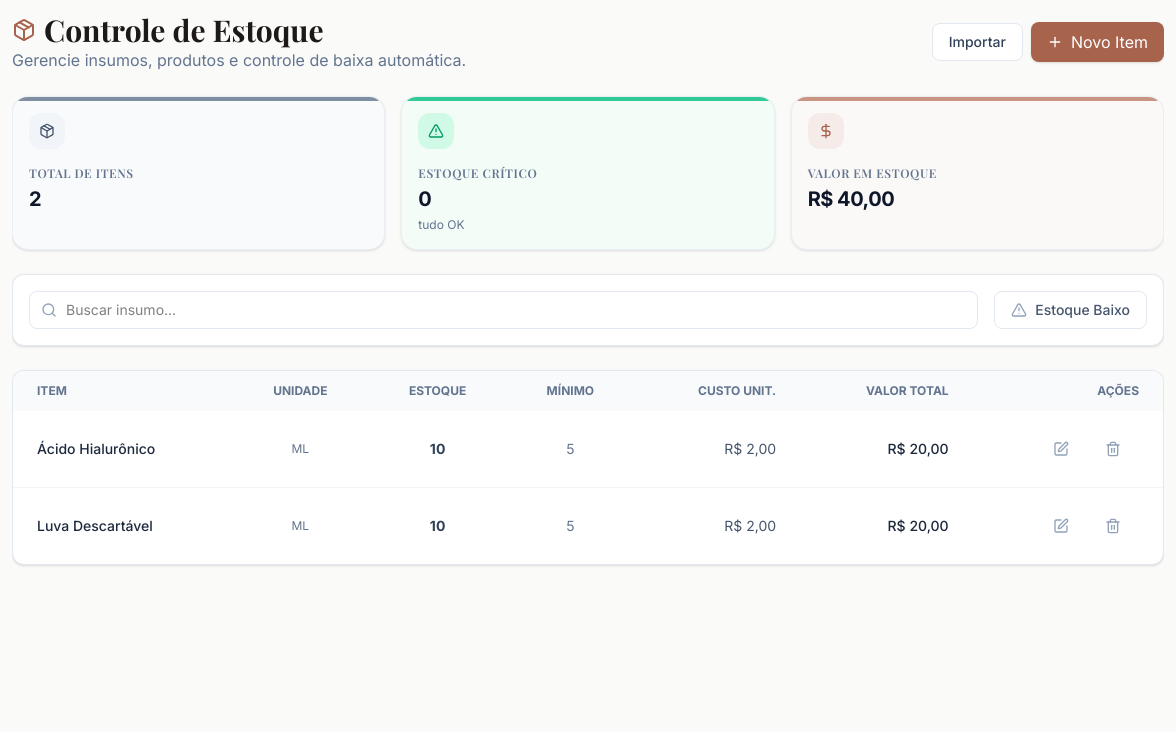
Test case: pages/Inventory › a busca por nome filtra a tabela
Type "luva" into the field with placeholder "Buscar insumo...".
click(504, 310); type("luva")  # box [29,291,978,329]
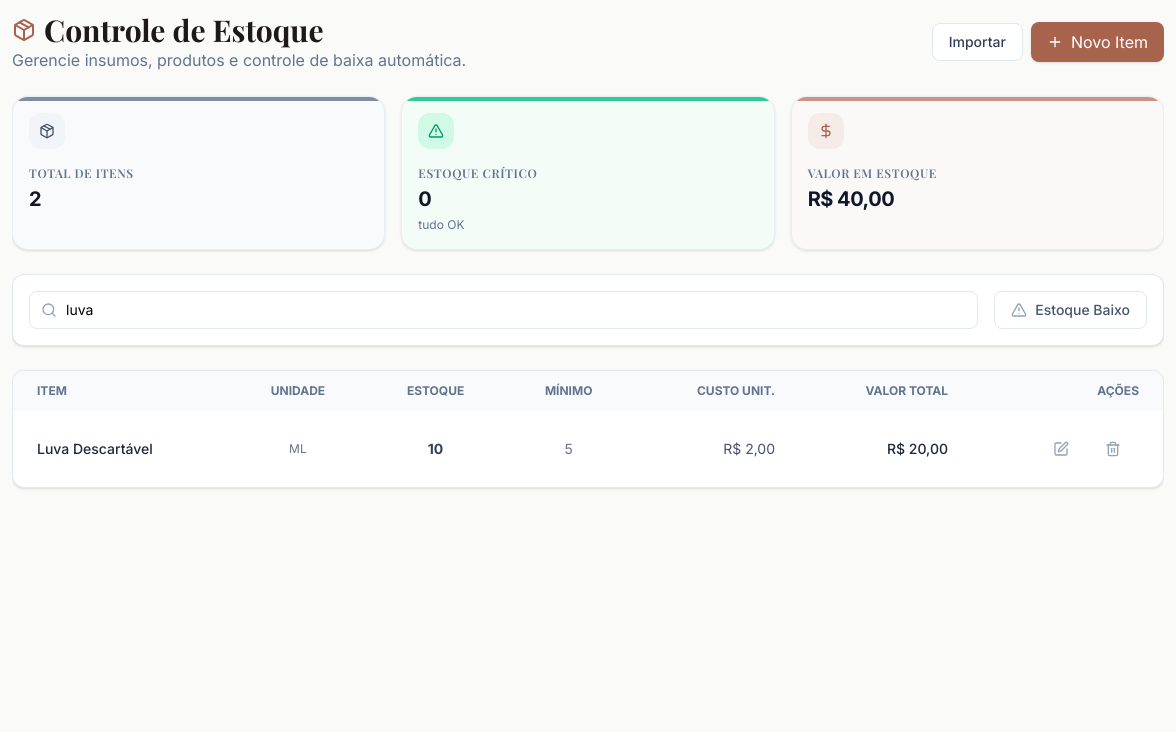
Expected: the text "Luva Descartável" is shown, [13,411,230,487]
Result: the text "Ácido Hialurônico" is gone
